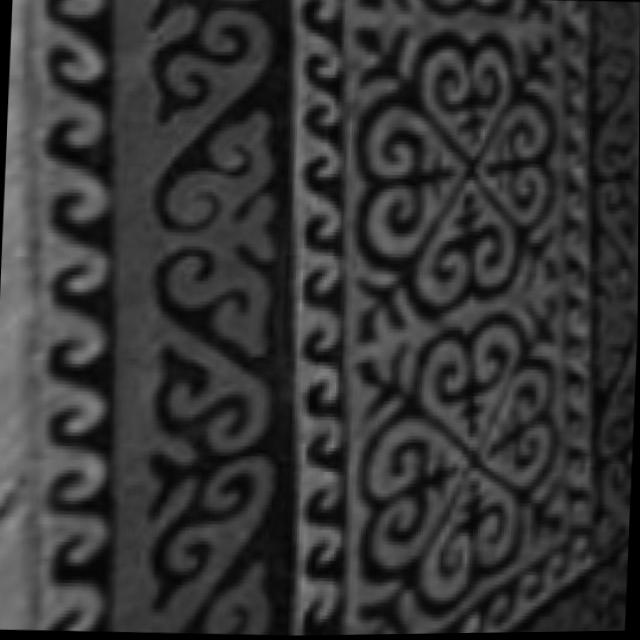Unity: (342, 296, 559, 635), (350, 21, 560, 353)
